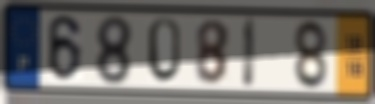0: (145, 16, 183, 86)
6: (45, 14, 84, 85)
8: (93, 13, 135, 87), (291, 18, 330, 92), (193, 17, 232, 87)
I: (241, 15, 258, 92)
